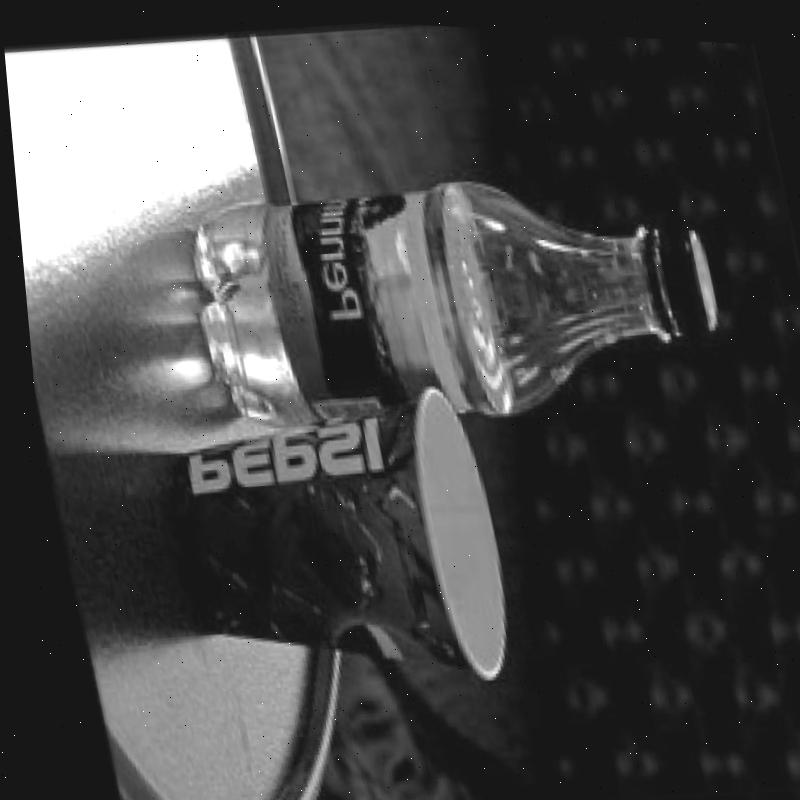botella: (173, 137, 733, 454)
